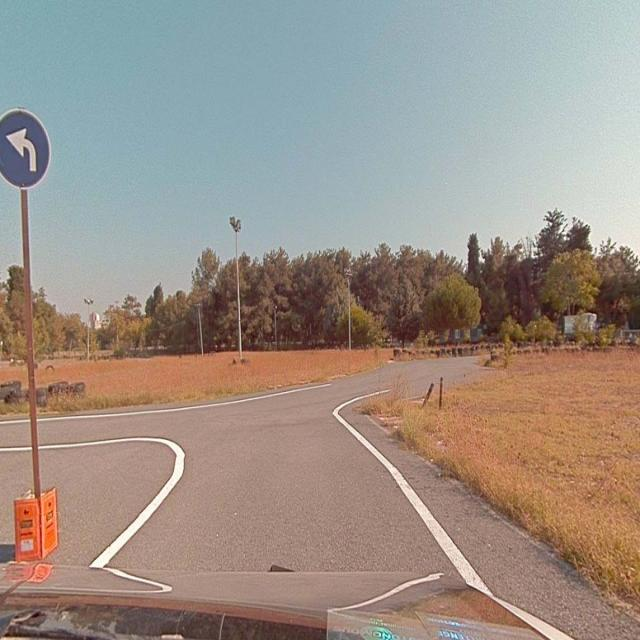sol: (1, 106, 53, 186)
